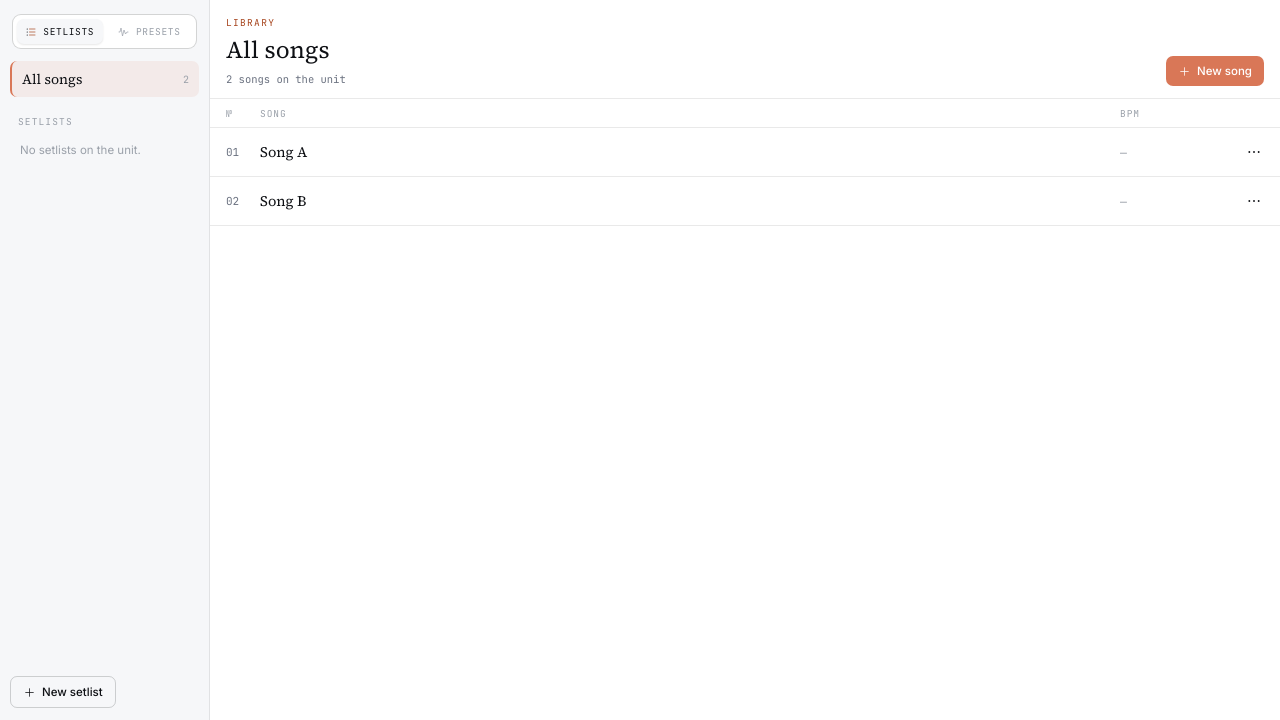
Scenario: SongsView — Presets axis › a selected preset shows the read-only list of songs that use it
Expected: the button "New song" is shown, [1166,56,1264,86]
Click the radio button labelled "Presets". click: (149, 32)
box: [106,19,192,44]
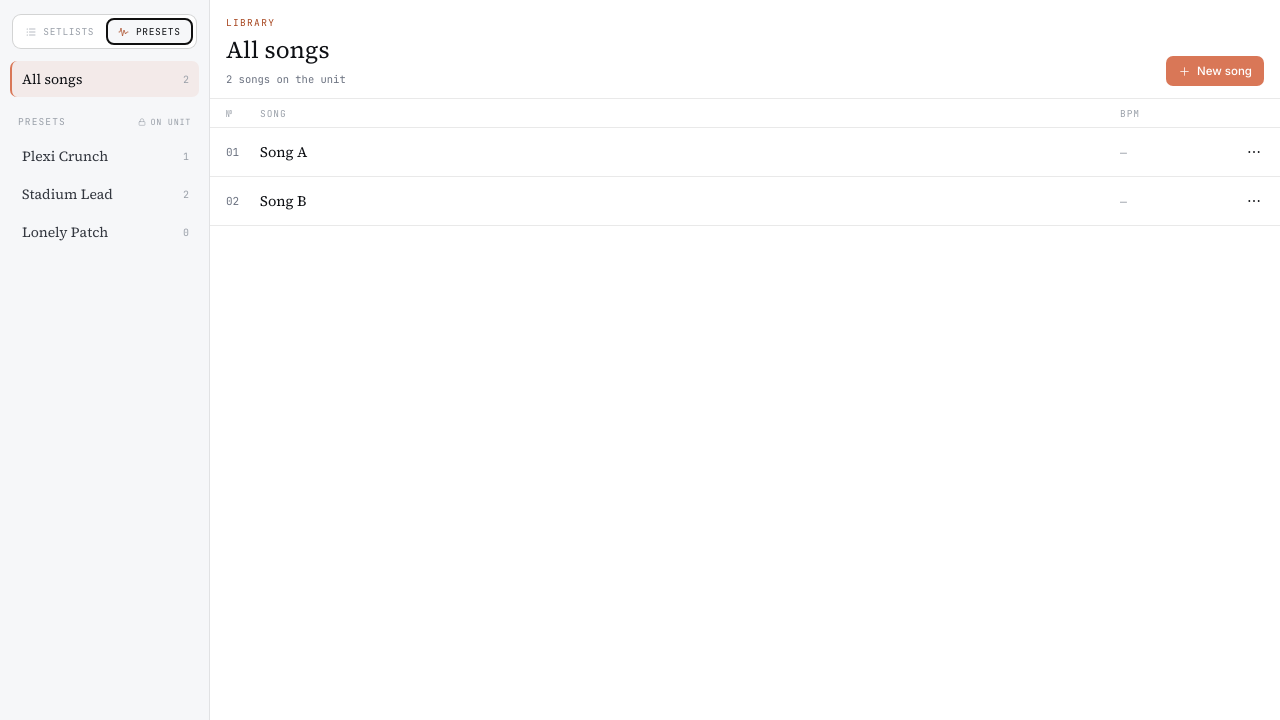
Click the text "Stadium Lead". click: (67, 194)
box: [22,184,113,204]
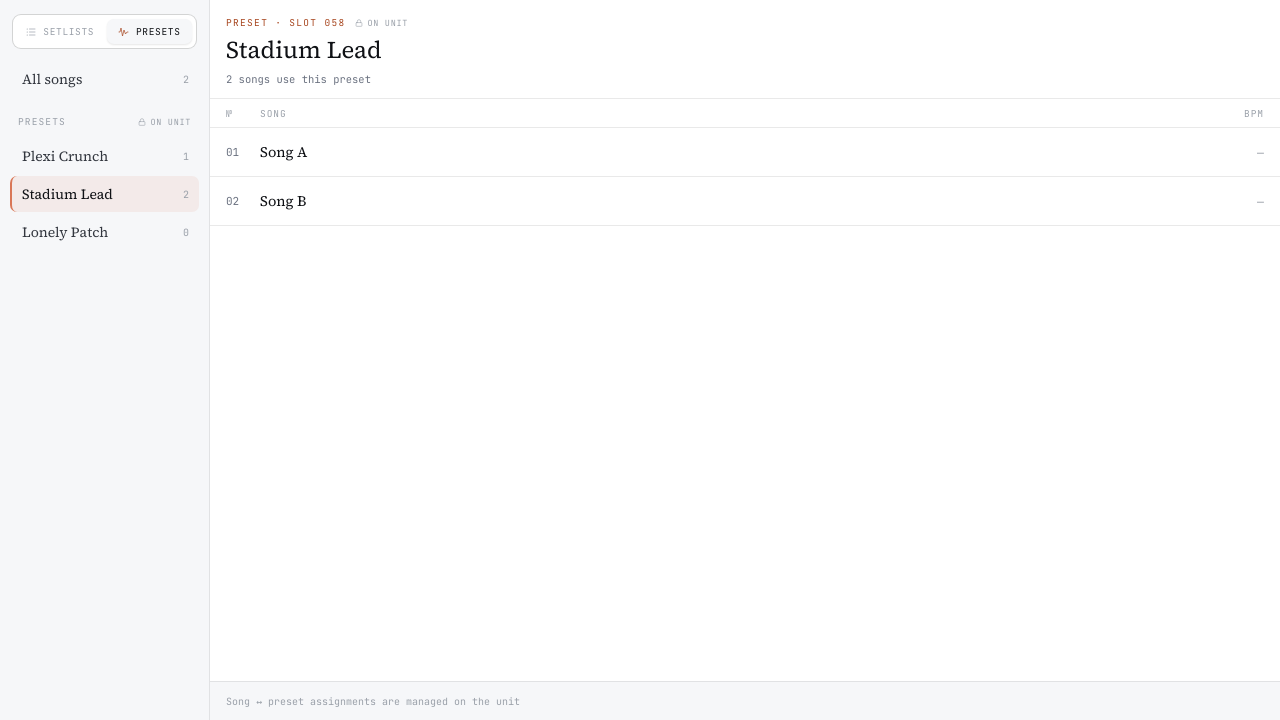
Expected: the text "Song A" is shown, [260,142,308,162]
Now the text "2 songs use this preset" is shown, box [226,72,371,86]
Now the text "Song ↔ preset assignments are managed on the unit" is shown, box [210,681,1279,719]
